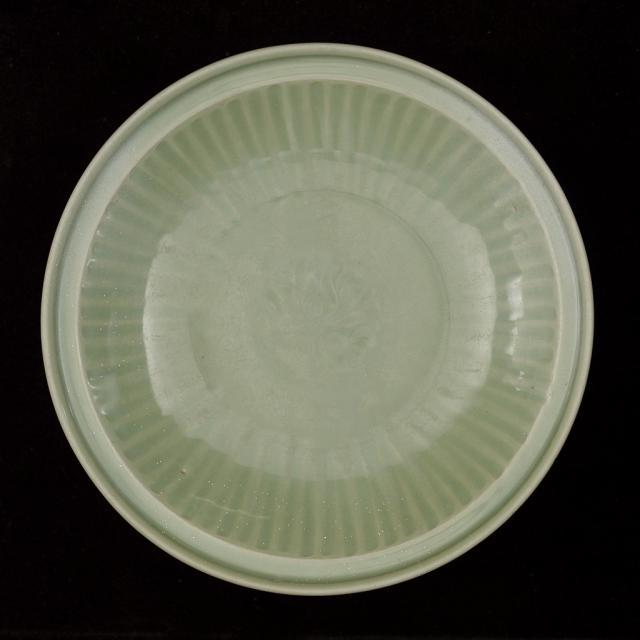ceramic plate: (32, 41, 596, 622)
